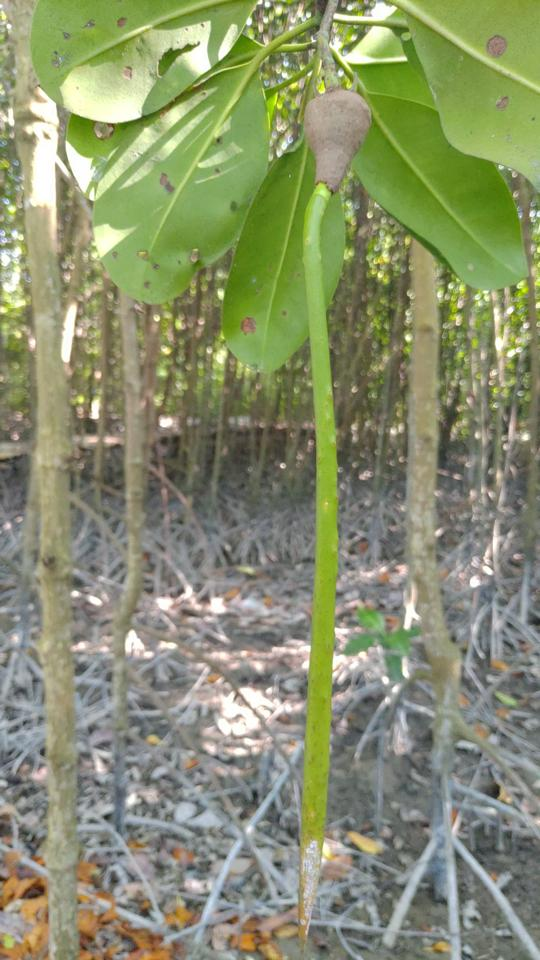setengah matang: (278, 77, 378, 951)
